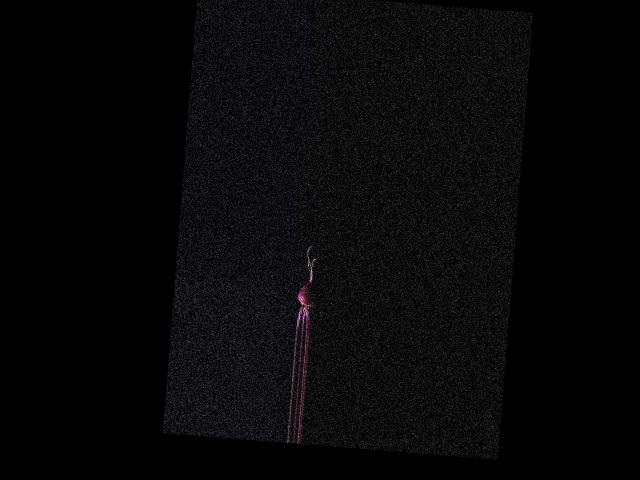beet: (294, 245, 324, 332)
